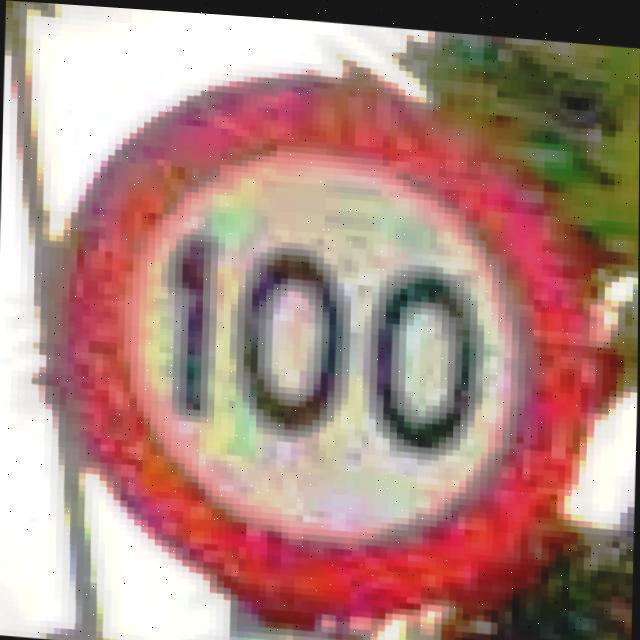max100: (34, 39, 616, 640)
